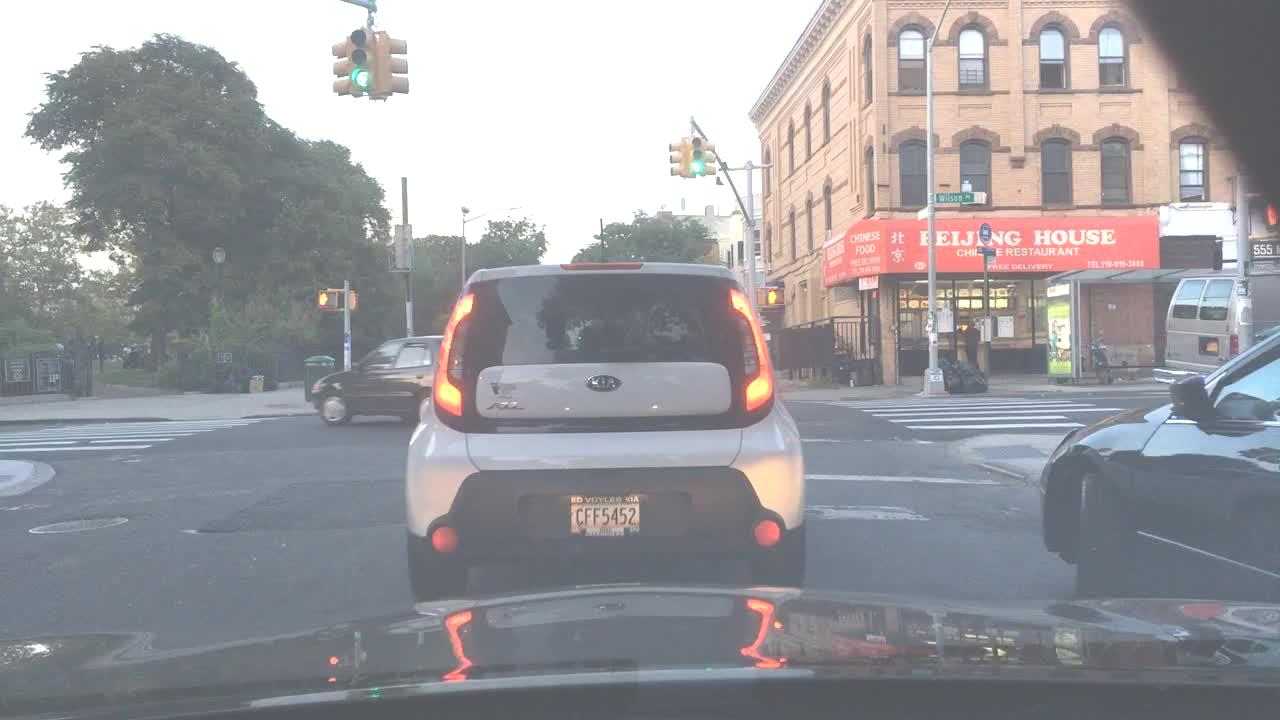kia: (579, 371, 636, 402)
